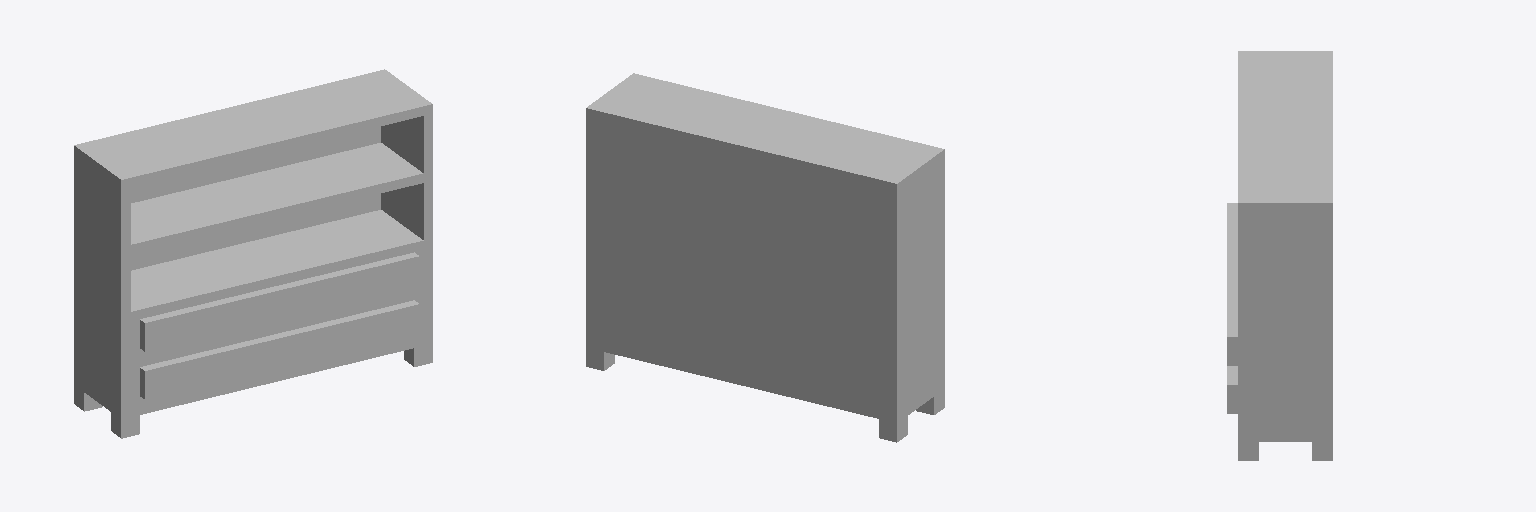
The model's file is cupboard4.obj.
3 views of the same model, side by side, from view 1: azimuth 30°, elevation 25°; view 2: azimuth 150°, elevation 25°; view 3: azimuth 270°, elevation 25° (orthographic).
Visible parts, largest first — view 1: cupboard4; view 2: cupboard4; view 3: cupboard4.
Boxes of the visible parts, x1=… form: cupboard4: x1=74, y1=69, x2=432, y2=438; cupboard4: x1=586, y1=73, x2=944, y2=442; cupboard4: x1=1227, y1=51, x2=1332, y2=460.
Bounding box in the file's own units: 68 × 54 × 20.